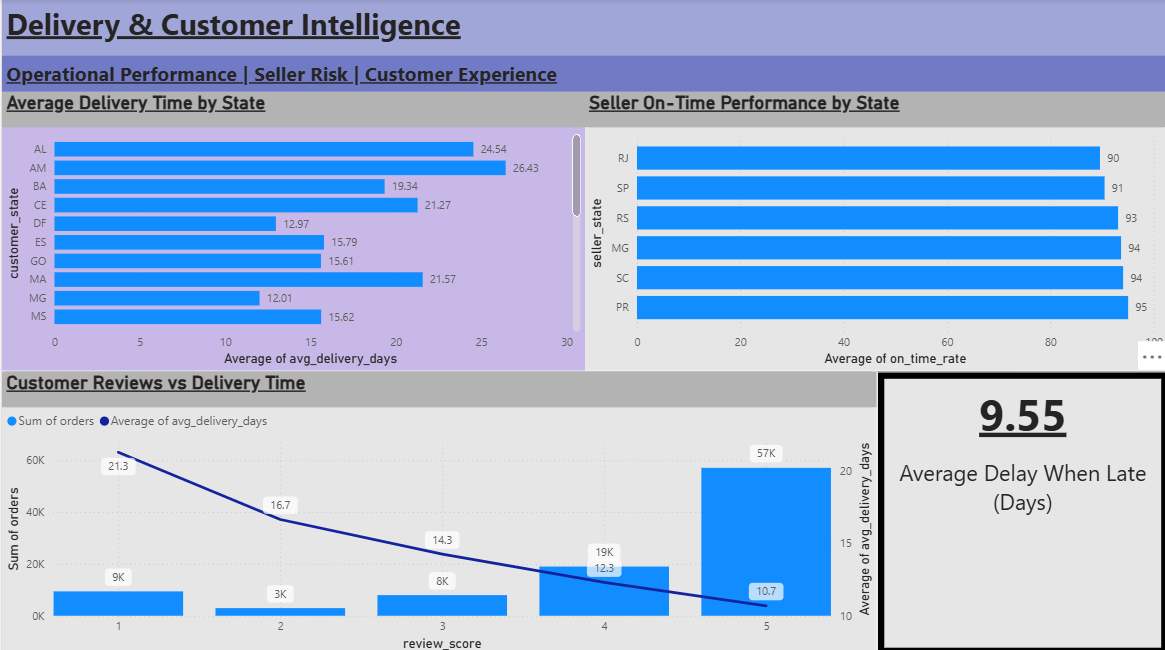

What the dashboard file says about the page in this screenshot:
{"tool":"powerbi","page":{"name":"Delivery & Customer Intelligence","canvas":[1280,720],"ordinal":2},"visuals":[{"type":"clusteredBarChart","title":"Seller On-Time Performance by State","fields":{"Category":["seller_performance.seller_state"],"Y":["Avg(seller_performance.on_time_rate)"]},"box":[640,101.7,640,306.7],"z":0},{"type":"clusteredBarChart","title":"Average Delivery Time by State","fields":{"Category":["state_delivery_100plus.customer_state"],"Y":["Avg(state_delivery_100plus.avg_delivery_days)"]},"box":[0,101.7,640,306.7],"z":1000},{"type":"lineClusteredColumnComboChart","title":"Customer Reviews vs Delivery Time","fields":{"Category":["review_vs_delivery.review_score"],"Y":["Sum(review_vs_delivery.orders)"],"Y2":["Avg(review_vs_delivery.avg_delivery_days)"]},"box":[0,408.3,960,311.7],"z":2000},{"type":"textbox","box":[0,0,1280,61.7],"z":3000},{"type":"textbox","box":[0,61.7,1280,40],"z":4000},{"type":"textbox","box":[960,409,320,311],"z":5000}]}

Visuals, with their boxes in screenshot pixels (x1, y1, x2, y2), scaled from the page's 1280x720 canvas onto the 1165x650 screenshot:
"Seller On-Time Performance by State" clusteredBarChart: left=582, top=92, right=1164, bottom=369
"Average Delivery Time by State" clusteredBarChart: left=0, top=92, right=582, bottom=369
"Customer Reviews vs Delivery Time" lineClusteredColumnComboChart: left=0, top=369, right=874, bottom=649
textbox: left=0, top=0, right=1164, bottom=56
textbox: left=0, top=56, right=1164, bottom=92
textbox: left=874, top=369, right=1164, bottom=649
